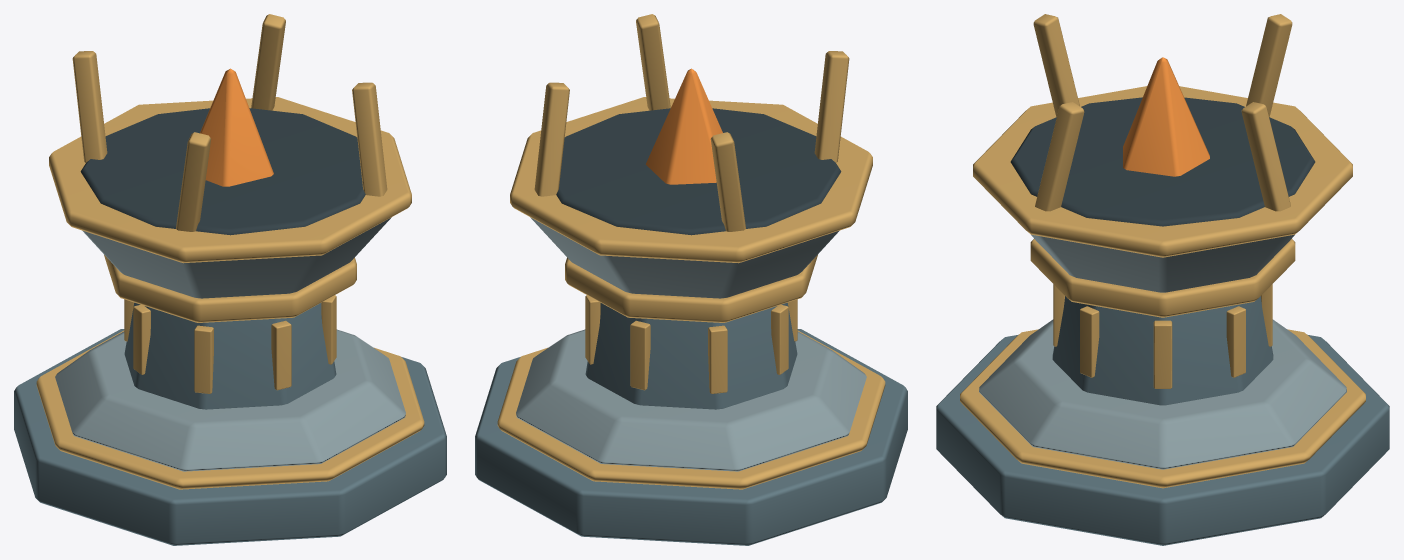
The model's file is ember_altar.glb.
The picture shows the model from 3 angles, left to right: view 1: azimuth 30°, elevation 25°; view 2: azimuth 150°, elevation 25°; view 3: azimuth 270°, elevation 25°; orthographic projection.
Parts seen in each view (by area): view 1: octagonal_plinth, stepped_base, coal_bed, bowl_lip, pedestal, plinth_brass_edge, bowl, collar, ember_core, crown_prong.003, crown_prong.001, crown_prong.002 (+5 smaller); view 2: octagonal_plinth, stepped_base, coal_bed, bowl_lip, pedestal, plinth_brass_edge, bowl, collar, ember_core, crown_prong, crown_prong.002, crown_prong.001 (+5 smaller); view 3: octagonal_plinth, stepped_base, coal_bed, bowl_lip, pedestal, plinth_brass_edge, bowl, collar, ember_core, crown_prong, crown_prong.003, crown_prong.001 (+4 smaller).
Boxes of the visible parts, x1,y1,x2,y2 form: octagonal_plinth: (14, 329, 446, 545); stepped_base: (55, 329, 405, 471); coal_bed: (80, 108, 365, 235); bowl_lip: (49, 97, 411, 263); pedestal: (124, 302, 336, 409); plinth_brass_edge: (36, 330, 424, 489); bowl: (82, 217, 391, 298); collar: (104, 255, 356, 322); ember_core: (200, 68, 273, 186); crown_prong.003: (352, 82, 387, 196); crown_prong.001: (72, 51, 107, 162); crown_prong.002: (176, 132, 211, 231); octagonal_plinth: (475, 329, 907, 545); stepped_base: (516, 329, 866, 471); coal_bed: (556, 108, 841, 235); bowl_lip: (510, 97, 872, 263); pedestal: (585, 302, 797, 409); plinth_brass_edge: (497, 330, 885, 489); bowl: (530, 217, 839, 298); collar: (565, 255, 817, 322); ember_core: (645, 68, 722, 184); crown_prong: (534, 82, 569, 196); crown_prong.002: (814, 51, 849, 162); crown_prong.001: (710, 132, 745, 231); octagonal_plinth: (936, 334, 1389, 545); stepped_base: (979, 319, 1346, 469); coal_bed: (1010, 97, 1315, 226); bowl_lip: (973, 86, 1352, 257); pedestal: (1052, 296, 1273, 405); plinth_brass_edge: (960, 329, 1365, 488); bowl: (1031, 234, 1294, 292); collar: (1030, 239, 1295, 317); ember_core: (1123, 57, 1209, 176); crown_prong: (1241, 102, 1290, 211); crown_prong.003: (1035, 102, 1084, 211); crown_prong.001: (1246, 14, 1292, 116).
Size of the model in its own units: 1.73 by 1.65 by 1.73.
